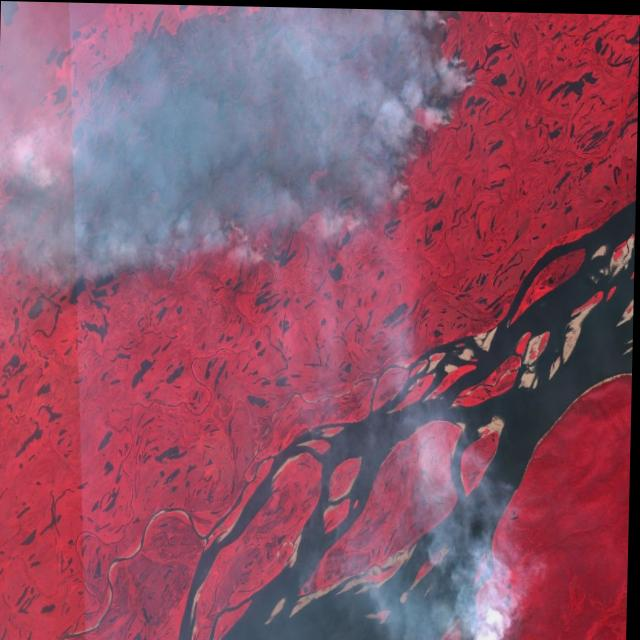fire: (62, 1, 486, 284)
